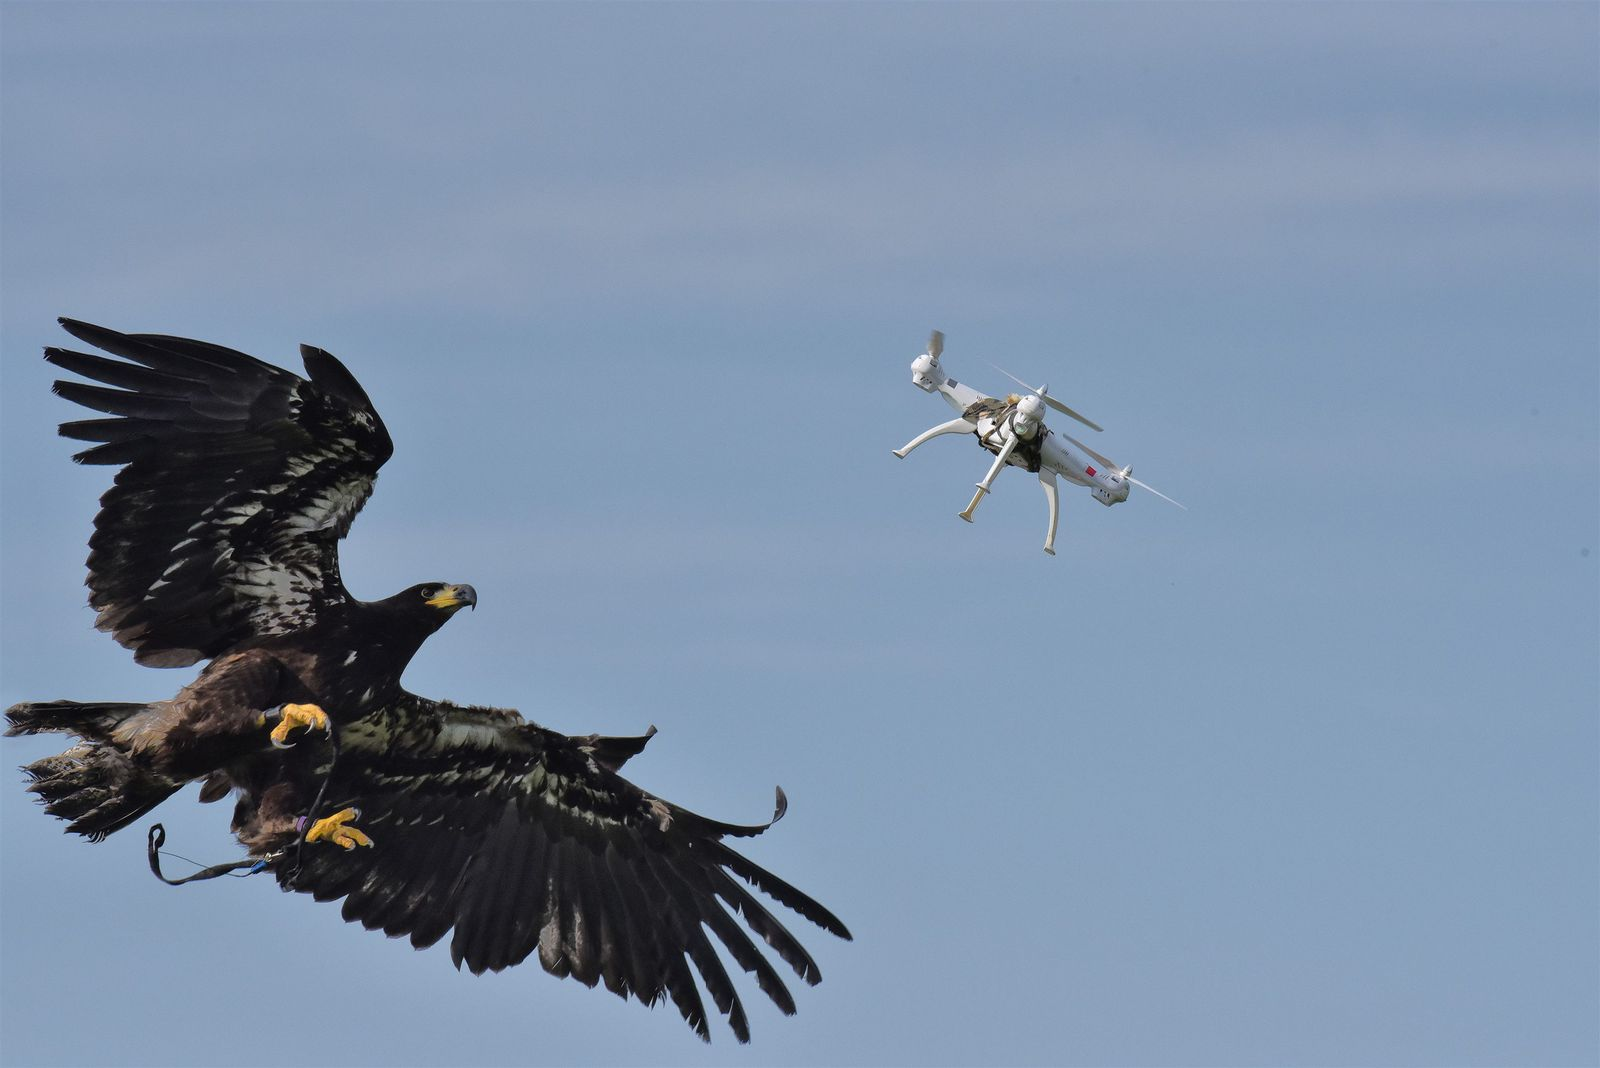Bird: (2, 292, 872, 1043)
Drone: (854, 309, 1193, 576)
